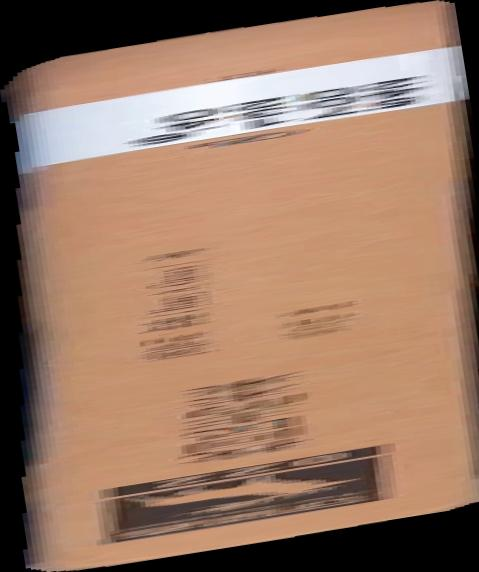reverse: (1, 1, 479, 572)
